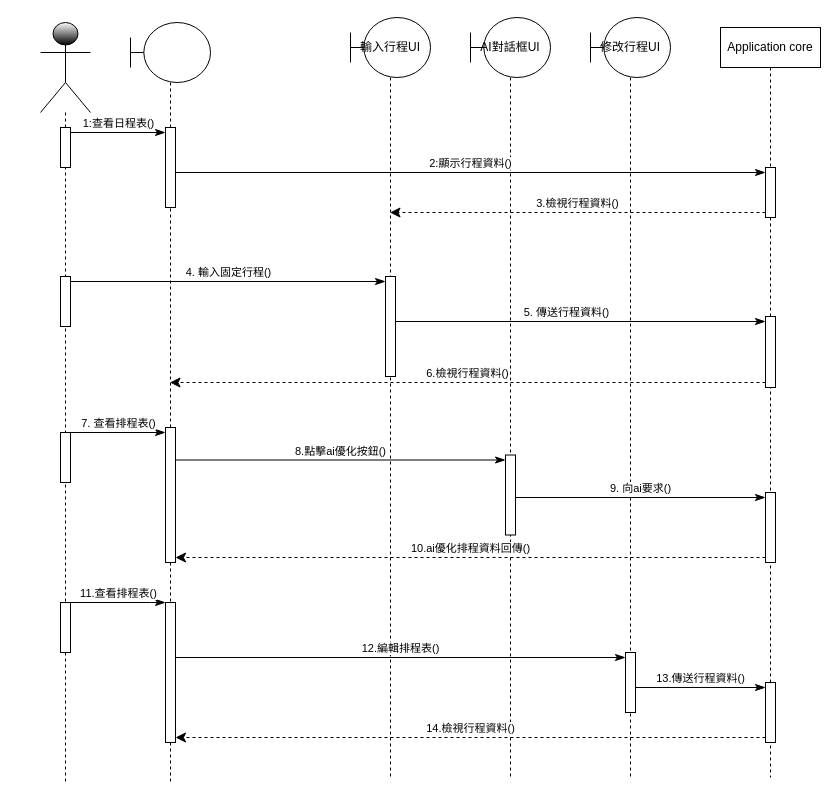
Image size: 838x800. Some labels were removed from this diagram. Each missing label, with the box of its shape:
排程表UI: (130, 22, 210, 782)
繁忙疏於管理的人: (40, 22, 90, 782)
